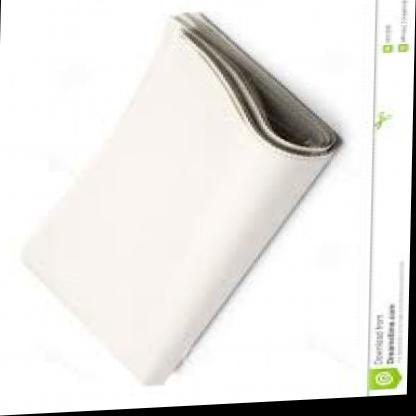Paper: (32, 0, 360, 403)
